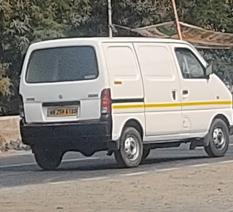Auto: (17, 36, 233, 174)
